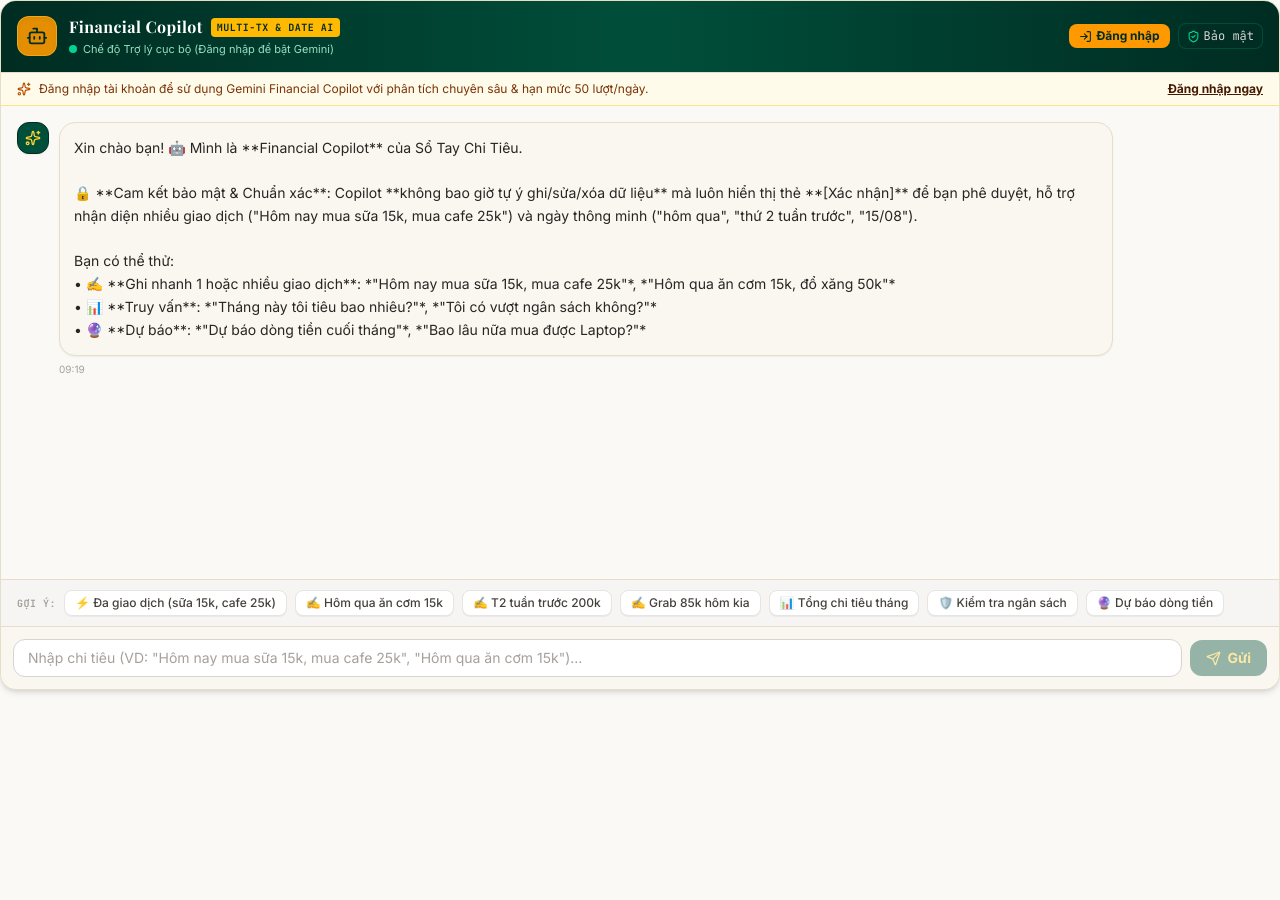
Test case: Frontend Component Tests › ChatbotTab Component › should parse multi-transaction input and render multiple pending action cards
The width and height of the screenshot is (1280, 900).
Replace the text in the field named "Nhập yêu cầu cho Financial Copilot" with "Hôm nay mua sữa hết 15k, mua cafe hết 25k" at (598, 658), box [13, 639, 1182, 677]
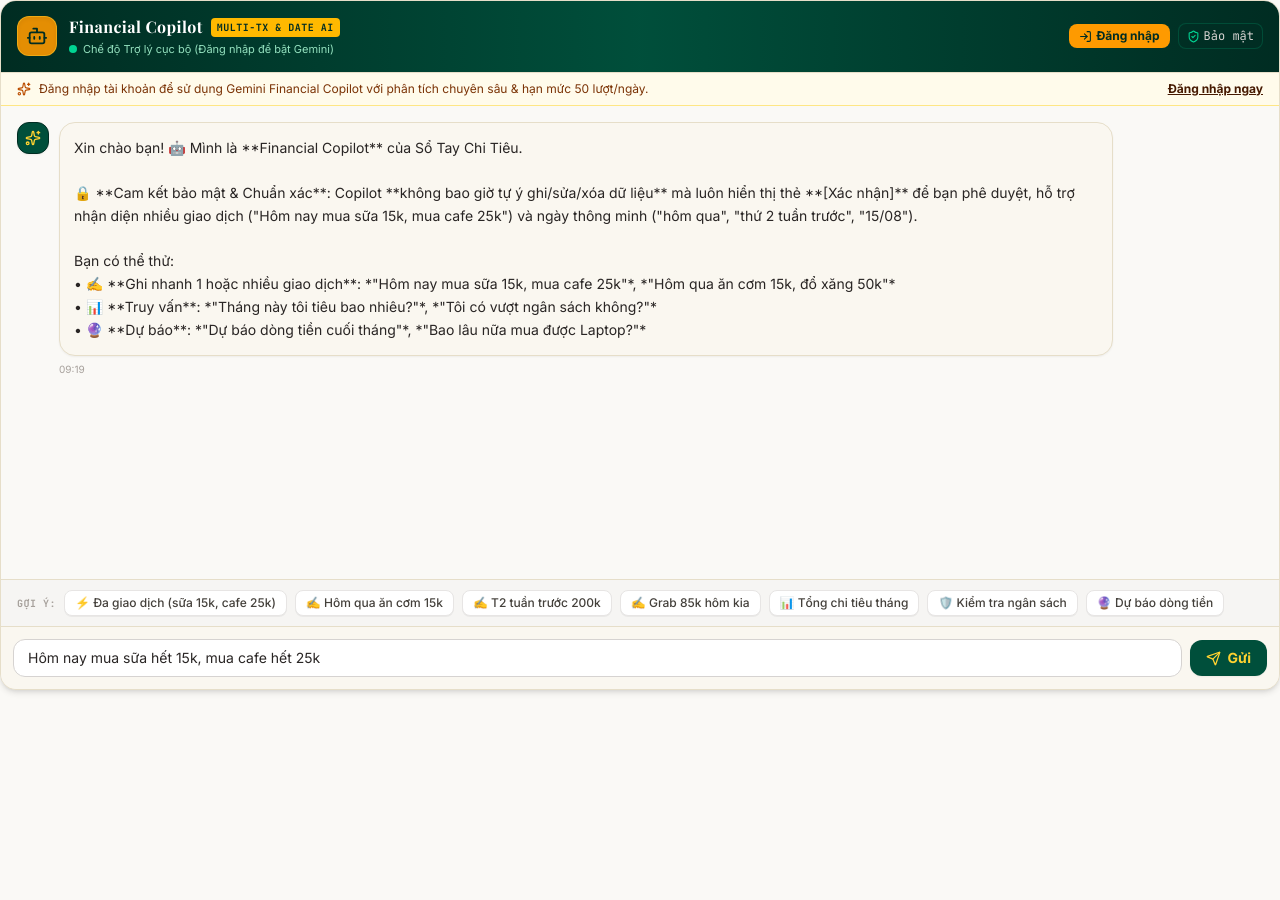
Click the button with aria-label "gửi yêu cầu".
click(1229, 658)  # box [1190, 640, 1267, 676]
(page scrolled)
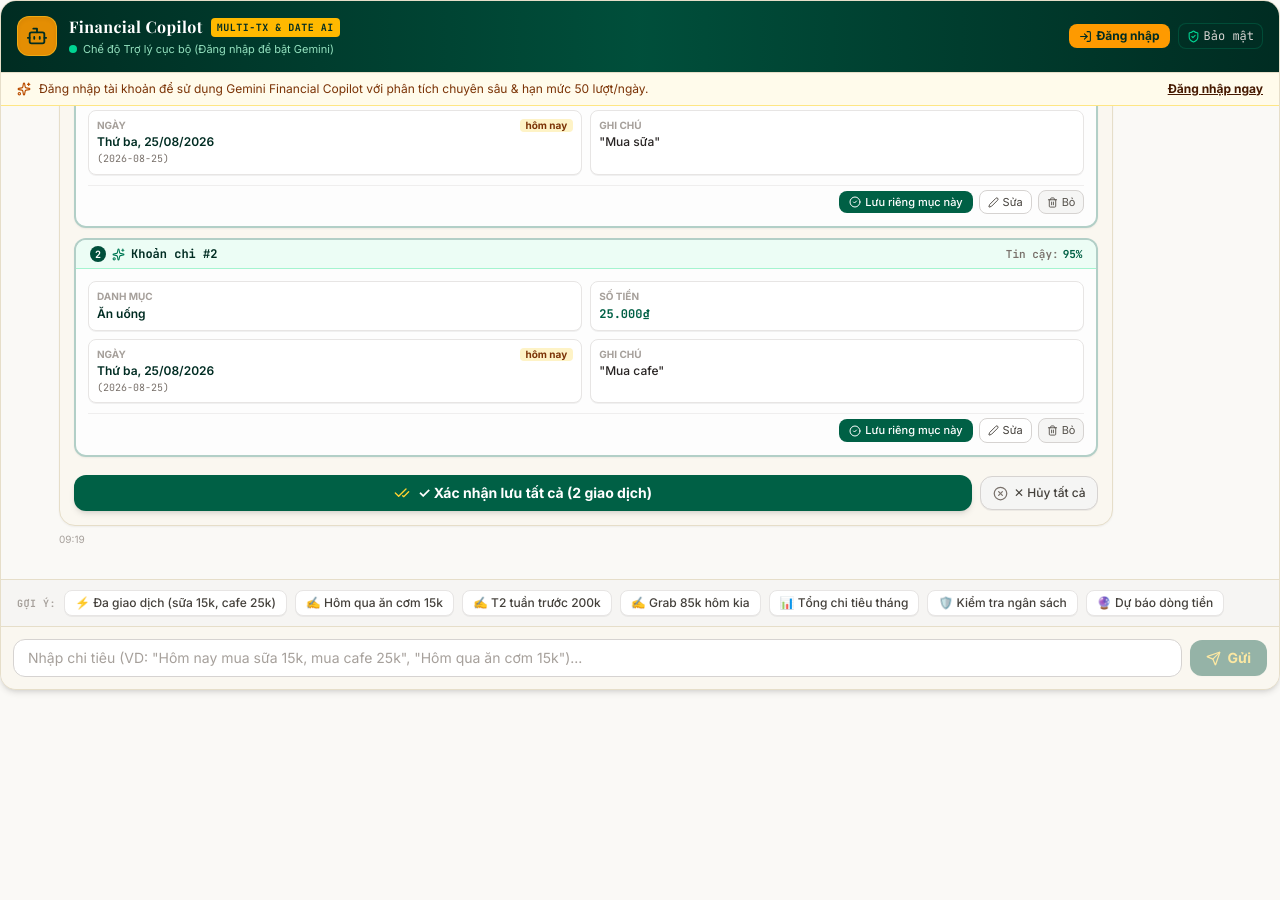
Expected: the text "25.000₫" is shown, [599, 306, 650, 322]
Expected: the button "✓ Xác nhận lưu tất cả (2 giao dịch)" is shown, [74, 475, 972, 511]
